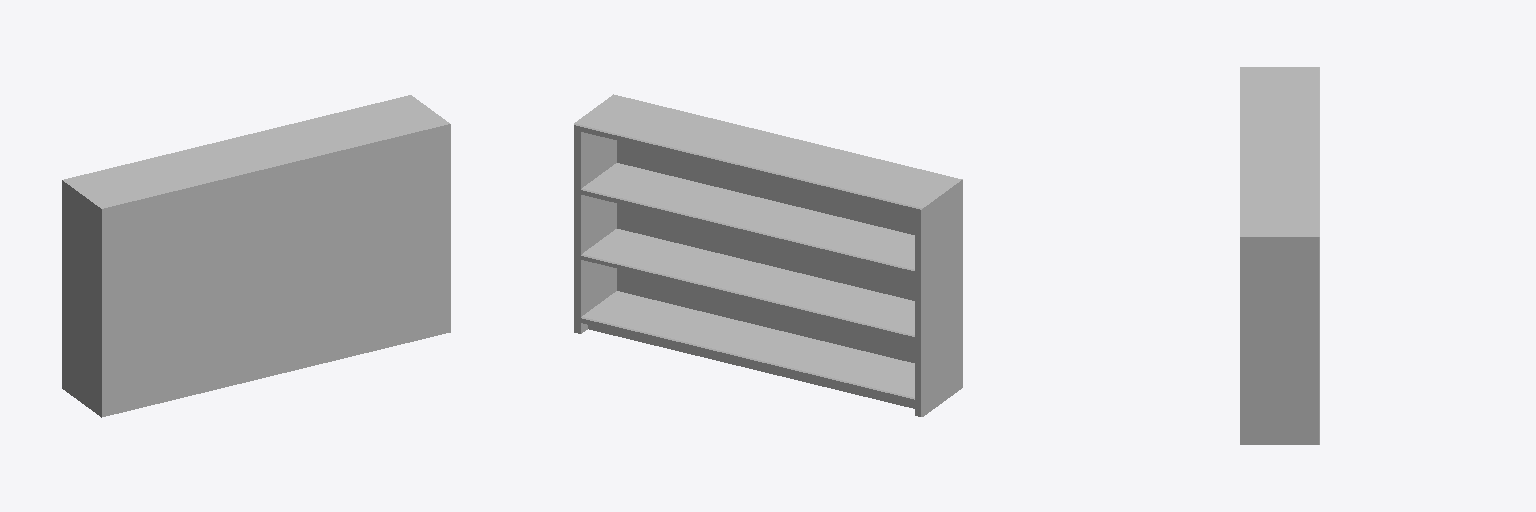
File: bookshelf.obj
The picture shows the model from 3 angles: view 1: azimuth 30°, elevation 25°; view 2: azimuth 150°, elevation 25°; view 3: azimuth 270°, elevation 25°; orthographic projection.
Parts seen in each view (by area): view 1: Model_Doctor_Bookshelf; view 2: Model_Doctor_Bookshelf; view 3: Model_Doctor_Bookshelf.
Boxes of the visible parts, x1,y1,x2,y2 form: Model_Doctor_Bookshelf: [62, 95, 450, 417]; Model_Doctor_Bookshelf: [574, 94, 962, 416]; Model_Doctor_Bookshelf: [1240, 67, 1319, 444].
Bounding box in the file's own units: 350 × 200 × 70.